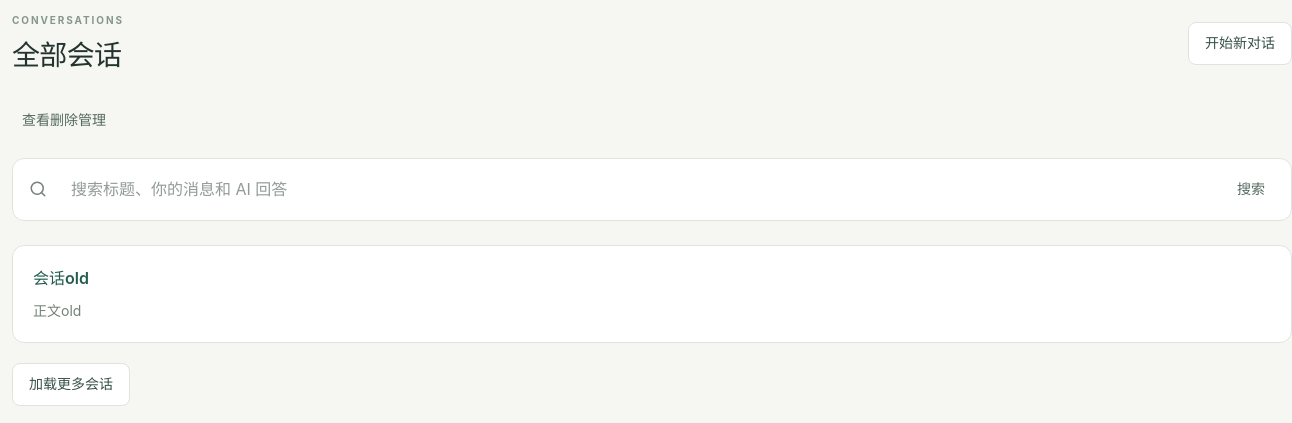
Test: restarts a changed directory instead of appending stale results
Expected: the link "会话old" is shown, [33,268,89,288]
Click the button "加载更多会话".
click(71, 384)  # box [12,363,130,406]
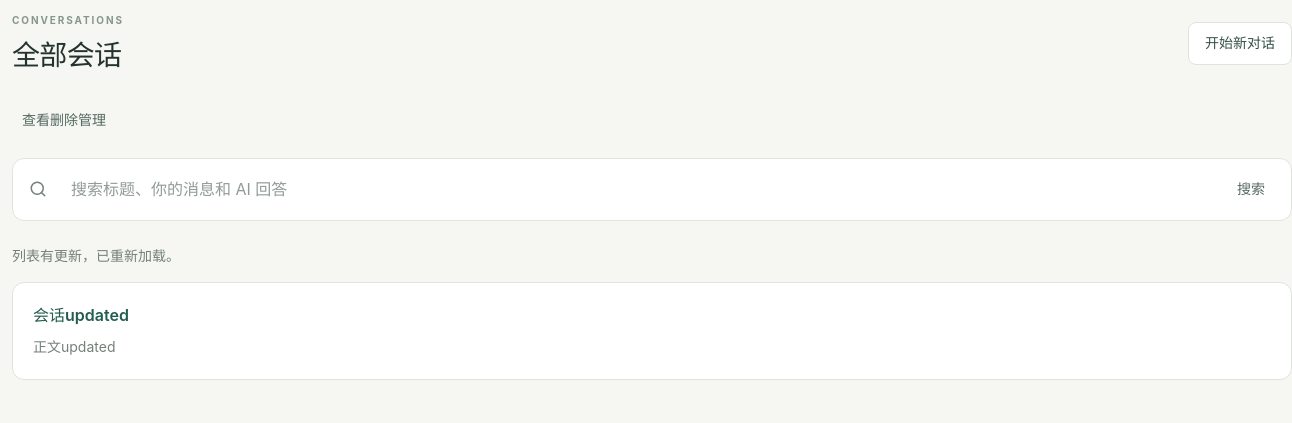
Expected: the link "会话updated" is shown, [33,305,129,325]
Expected: the link "会话old" is gone
Expected: the message shows "重新加载", [12,247,180,264]
